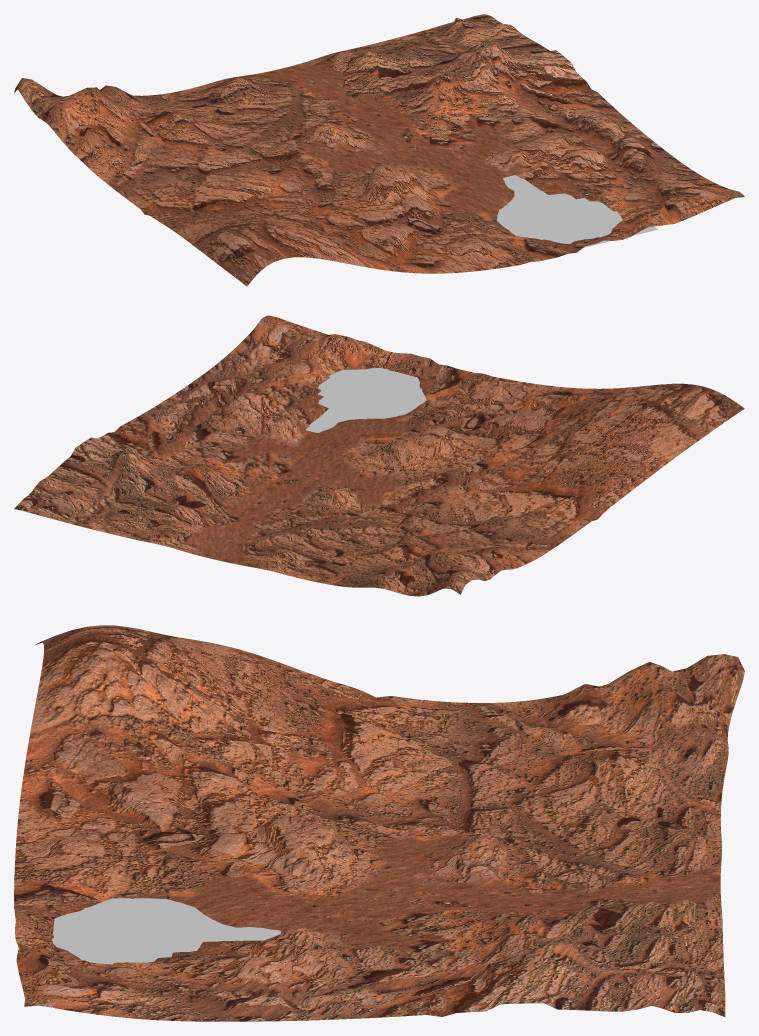
The model's file is mars_surface_2.obj.
3 views of the same model, one above another, from view 1: azimuth 30°, elevation 25°; view 2: azimuth 150°, elevation 25°; view 3: azimuth 270°, elevation 25° (orthographic). The views are drawn at different scales.
Parts seen in each view (by area): view 1: Plane.001; view 2: Plane.001; view 3: Plane.001.
Part boxes in pixels (<box>): Plane.001: <box>14,14,744,286</box>; Plane.001: <box>14,315,744,596</box>; Plane.001: <box>14,625,744,1021</box>.
Size of the model in its own units: 22.21 by 3.12 by 20.72.
